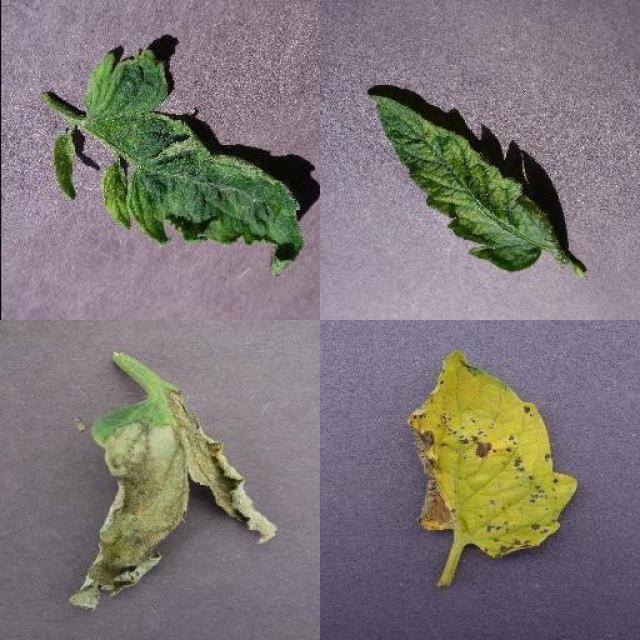Late Blight: (70, 399, 278, 616)
Septoria: (412, 346, 578, 556)
